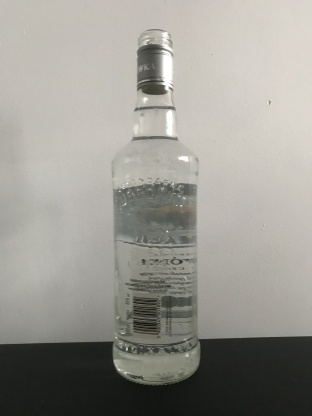nakretka: (134, 25, 174, 96)
